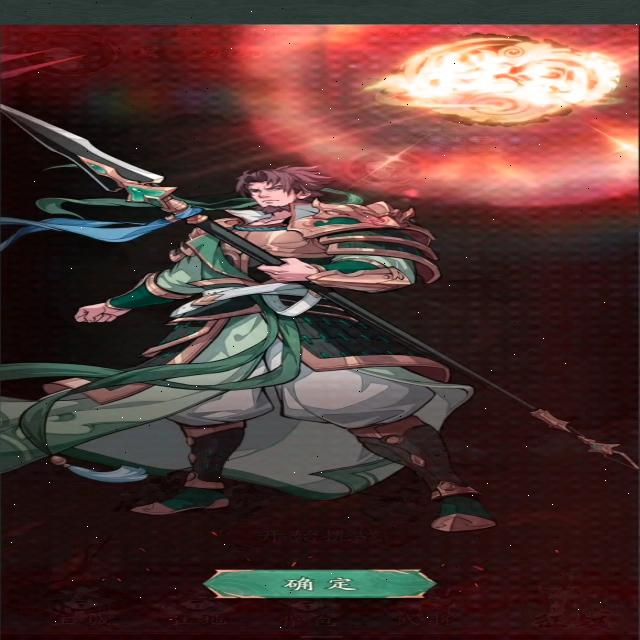operation-confirm: (200, 568, 435, 600)
